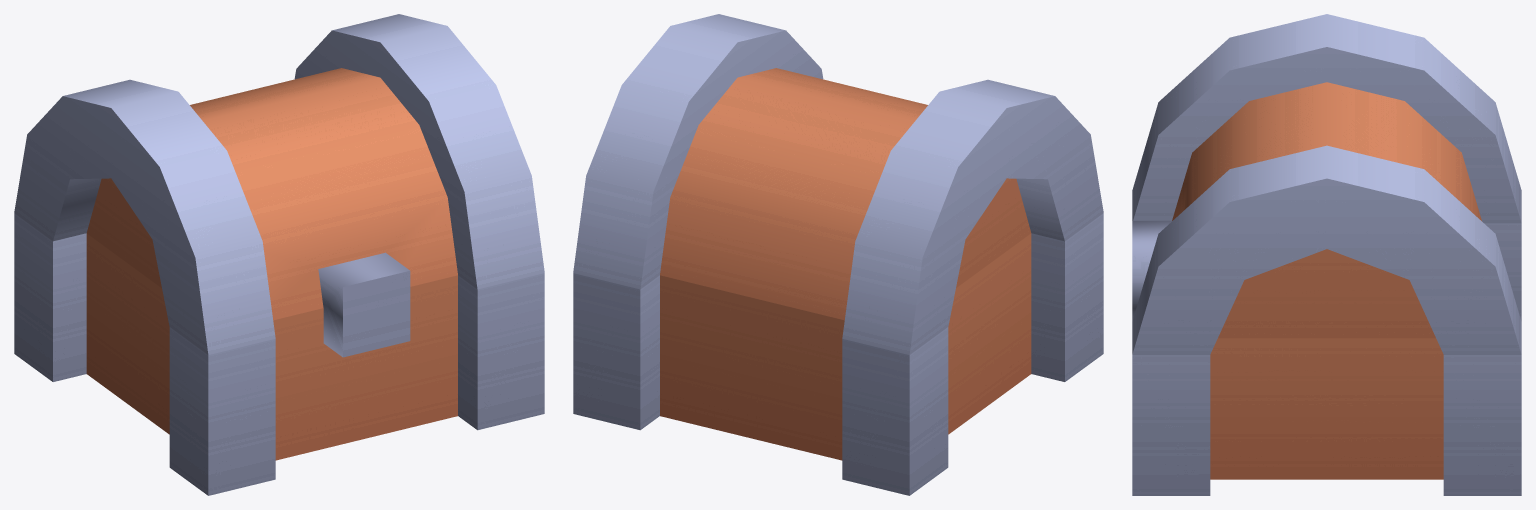
The model's file is chest.glb.
3 views of the same model, side by side, from view 1: azimuth 30°, elevation 25°; view 2: azimuth 150°, elevation 25°; view 3: azimuth 270°, elevation 25° (orthographic).
Parts seen in each view (by area): view 1: lid, chest; view 2: lid, chest; view 3: lid, chest.
Boxes of the visible parts, box(x1,y1,x2,y2) form: lid: box(14, 14, 544, 357); chest: box(14, 213, 544, 495); lid: box(573, 14, 1103, 354); chest: box(573, 213, 1103, 495); lid: box(1132, 14, 1521, 354); chest: box(1132, 223, 1521, 495).
Bounding box in the file's own units: 1.27 × 1.15 × 1.27.
1 material, 1 textured.
